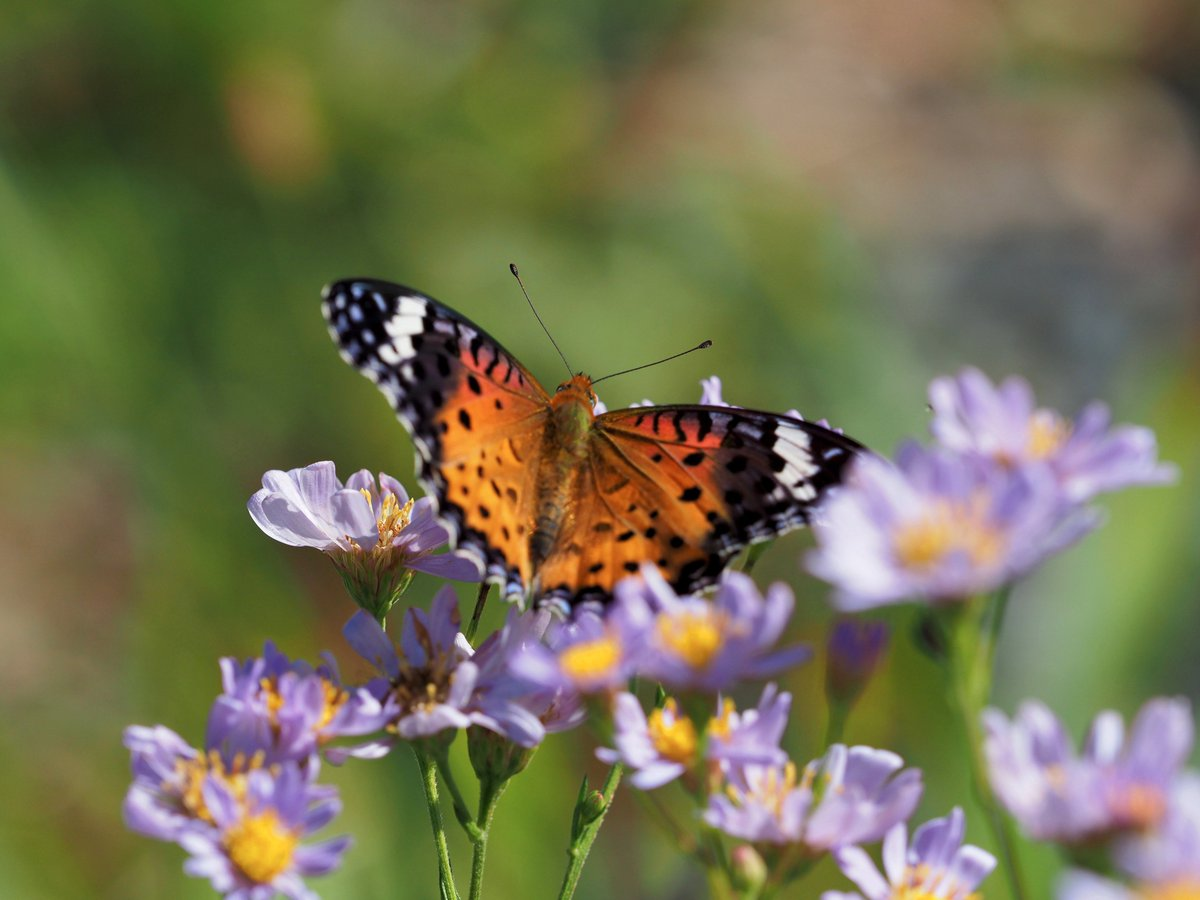Argyreus hyperbius: (308, 253, 879, 626)
butterfly: (310, 255, 881, 628)
